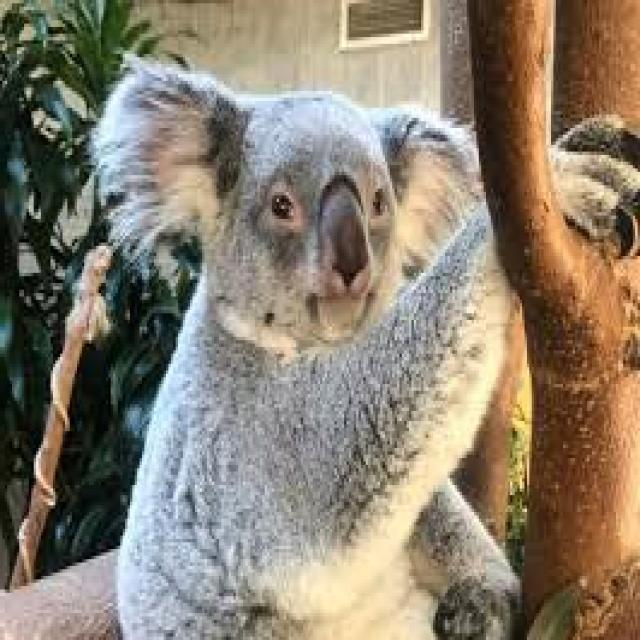koala: (94, 61, 520, 637)
